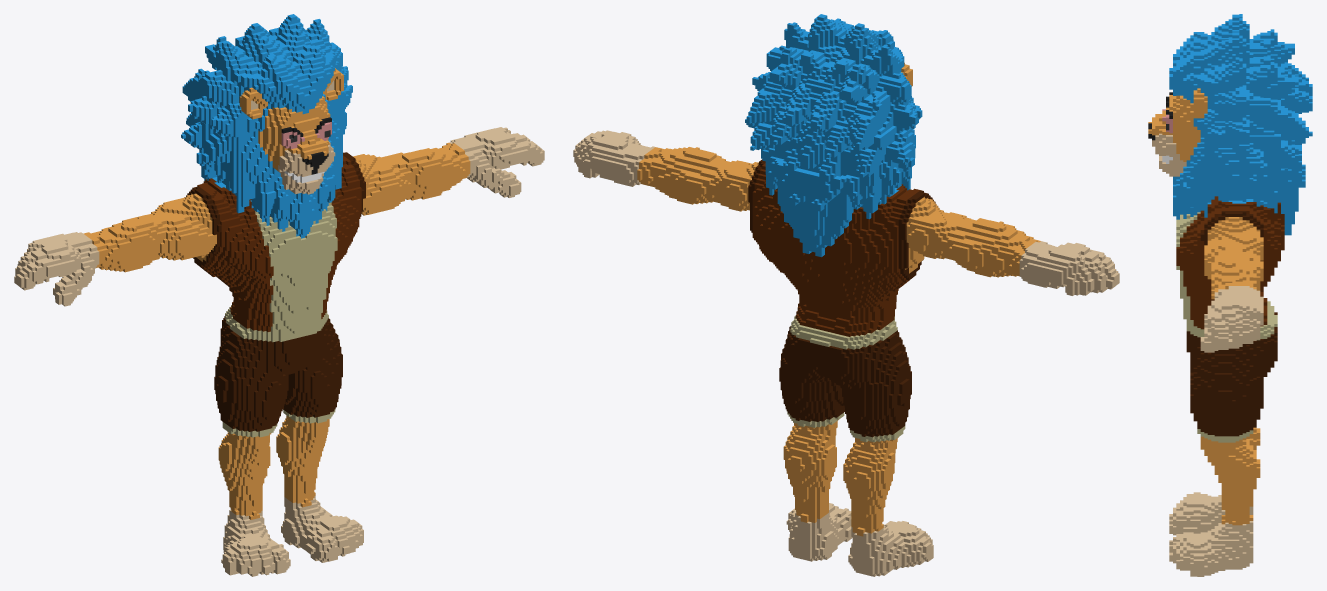
File: 410-CduecmmT.glb
The picture shows the model from 3 angles, left to right: view 1: azimuth 30°, elevation 25°; view 2: azimuth 150°, elevation 25°; view 3: azimuth 270°, elevation 25°; orthographic projection. The views are drawn at different scales.
Parts seen in each view (by area): view 1: big_smile; view 2: big_smile; view 3: big_smile.
Boxes of the visible parts, x1,y1,x2,y2 form: big_smile: (14,14,544,576); big_smile: (573,14,1119,576); big_smile: (1148,14,1312,576).
Size of the model in its own units: 17.2 by 16.5 by 4.7.
Materials: 5 (5 with a texture image).
